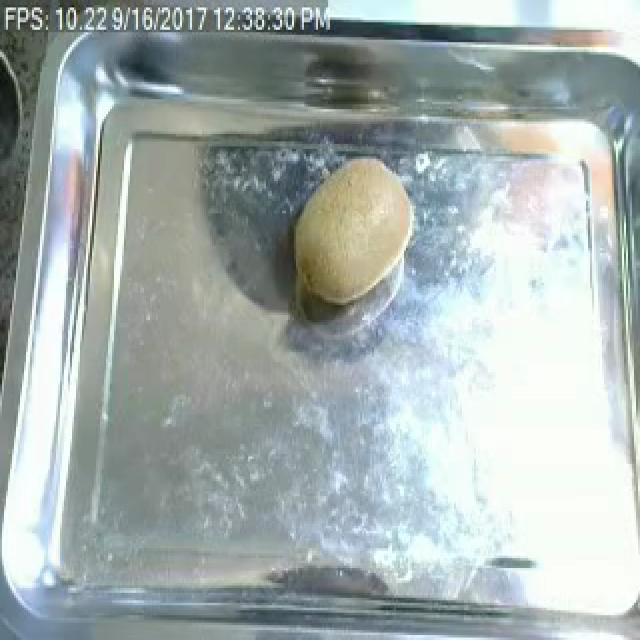Fruit: (282, 149, 422, 312)
